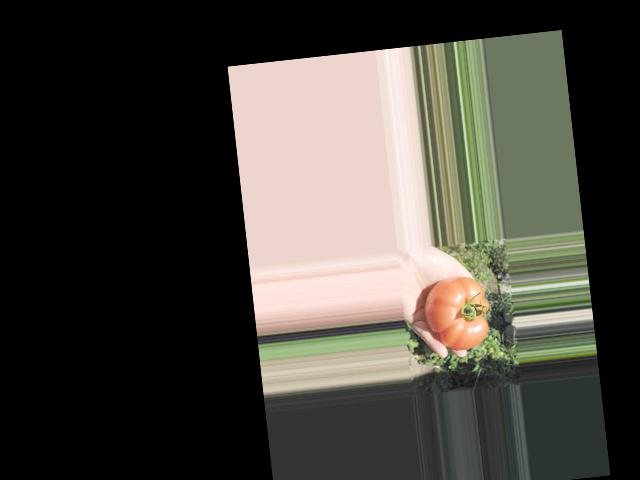tomato: (422, 274, 493, 354)
